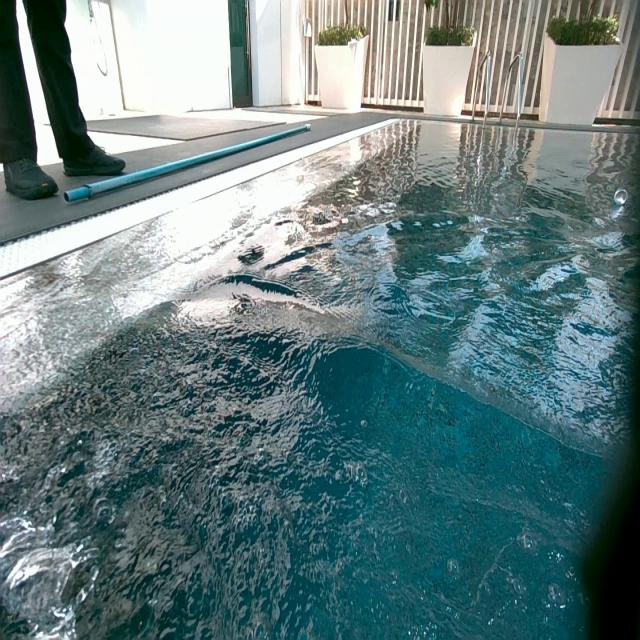Cans: (614, 187, 628, 207)
